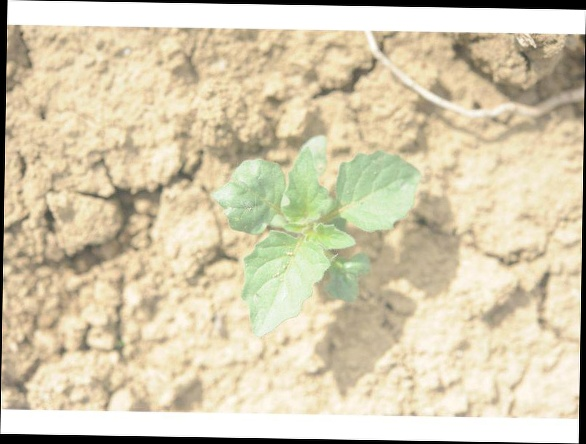nightshade: (213, 134, 418, 341)
